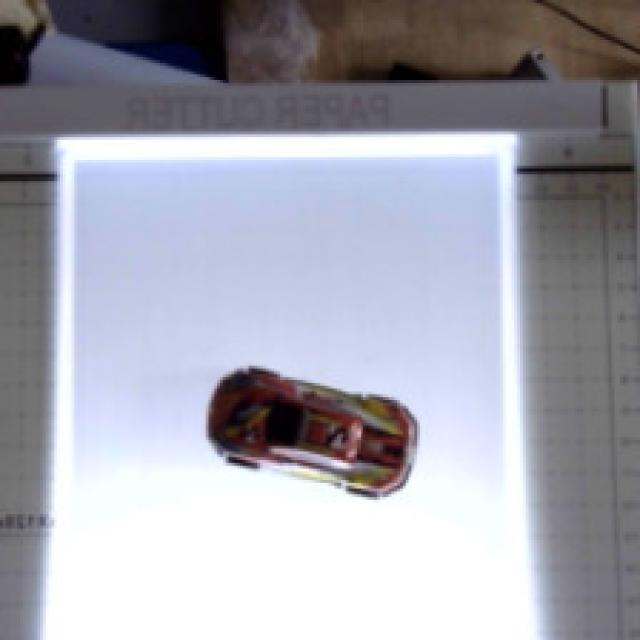Red Car: (185, 323, 464, 528)
